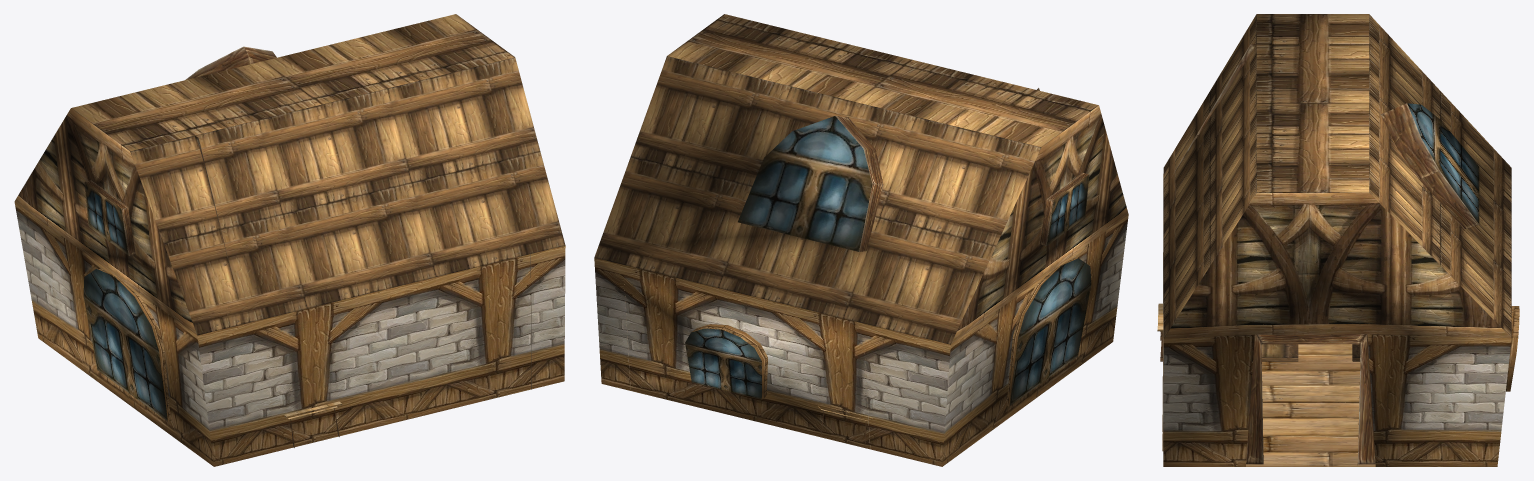
The model's file is stormwind_065.fbx.
The picture shows the model from 3 angles, left to right: view 1: azimuth 30°, elevation 25°; view 2: azimuth 150°, elevation 25°; view 3: azimuth 270°, elevation 25°; orthographic projection. The views are drawn at different scales.
Parts seen in each view (by area): view 1: stormwind_065_55, stormwind_065_87, stormwind_065_49, stormwind_065_84, stormwind_065_53; view 2: stormwind_065_55, stormwind_065_87, stormwind_065_84, stormwind_065_49, stormwind_065_53; view 3: stormwind_065_55, stormwind_065_49, stormwind_065_87, stormwind_065_51, stormwind_065_53, stormwind_065_84, stormwind_065_56.
Boxes of the visible parts, x1,y1,x2,y2 form: stormwind_065_55: (71,14,565,335); stormwind_065_87: (14,202,565,466); stormwind_065_49: (14,108,196,334); stormwind_065_84: (83,182,167,421); stormwind_065_53: (85,46,531,439); stormwind_065_55: (594,14,1098,344); stormwind_065_87: (594,215,1128,466); stormwind_065_84: (685,116,1091,406); stormwind_065_49: (951,105,1128,344); stormwind_065_53: (624,88,1088,448); stormwind_065_55: (1163,14,1511,338); stormwind_065_49: (1164,193,1511,338); stormwind_065_87: (1163,174,1519,466); stormwind_065_51: (1246,344,1375,466); stormwind_065_53: (1162,44,1478,464); stormwind_065_84: (1407,103,1479,223); stormwind_065_56: (1160,332,1360,361).
Size of the model in its own units: 11.9 by 8.48 by 10.16.
